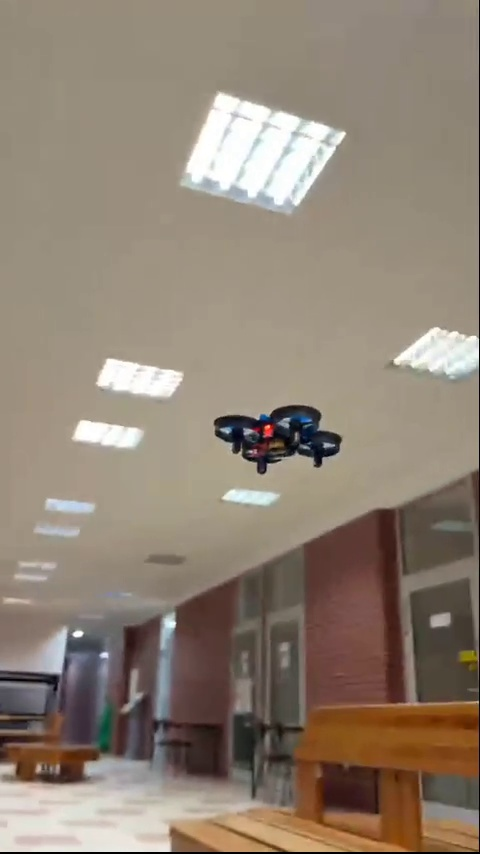drone: (216, 404, 335, 476)
